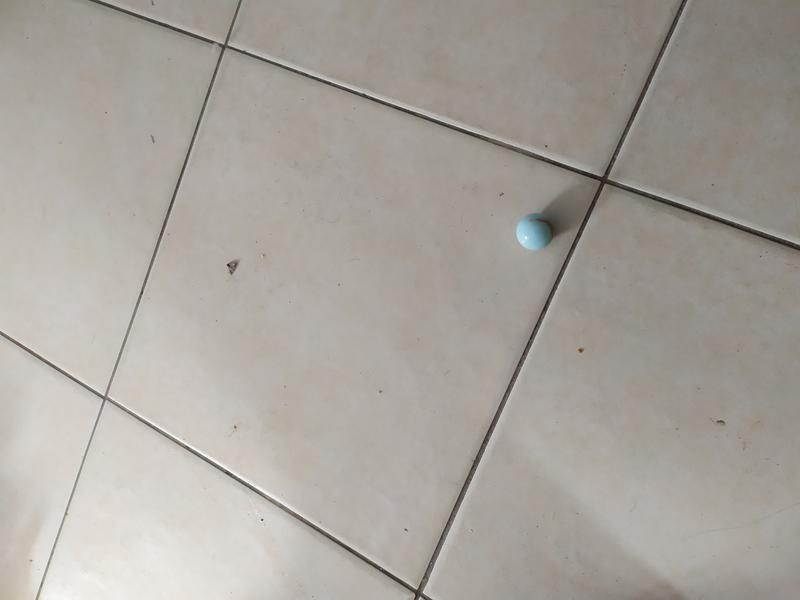Warning: (514, 210, 557, 253)
